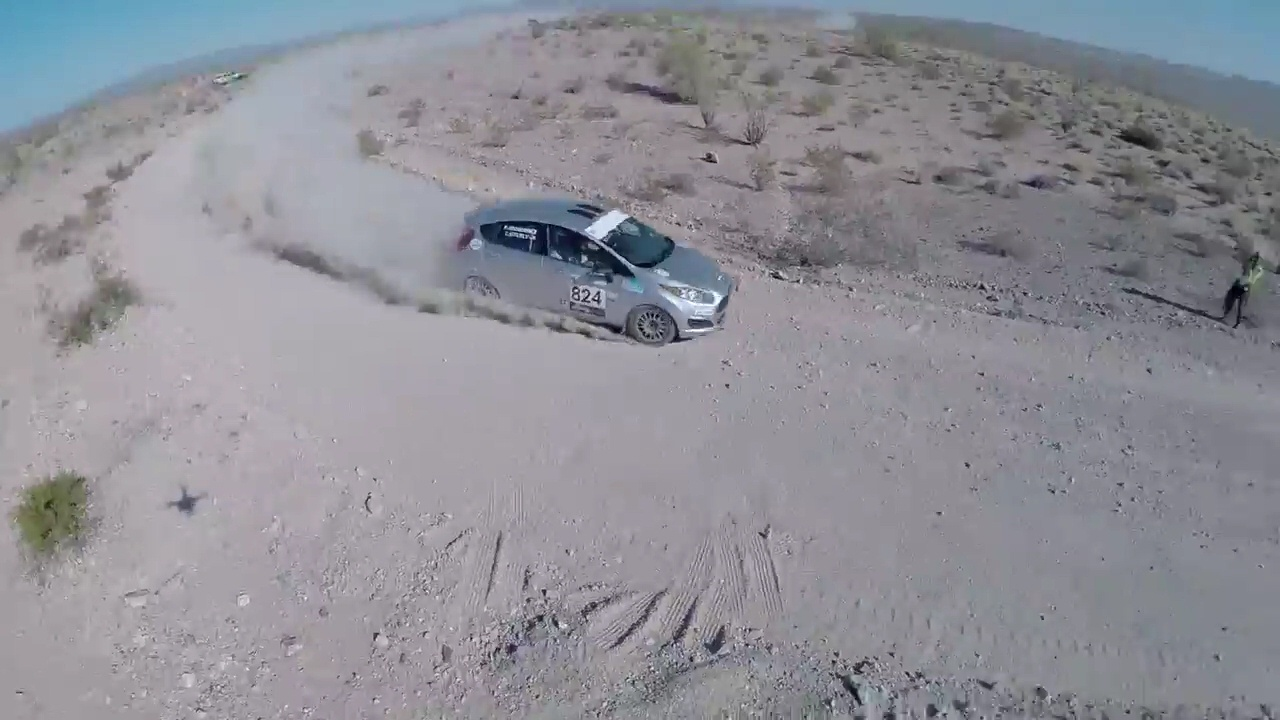araba: (449, 195, 738, 345)
